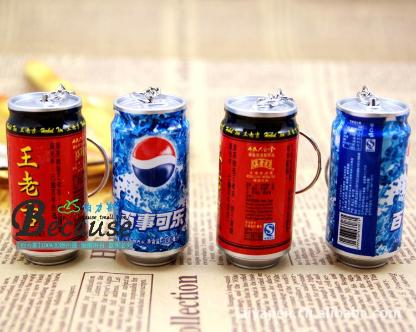Can: (325, 86, 410, 269), (217, 90, 299, 269), (111, 87, 189, 266), (6, 91, 88, 245), (19, 251, 79, 265)
